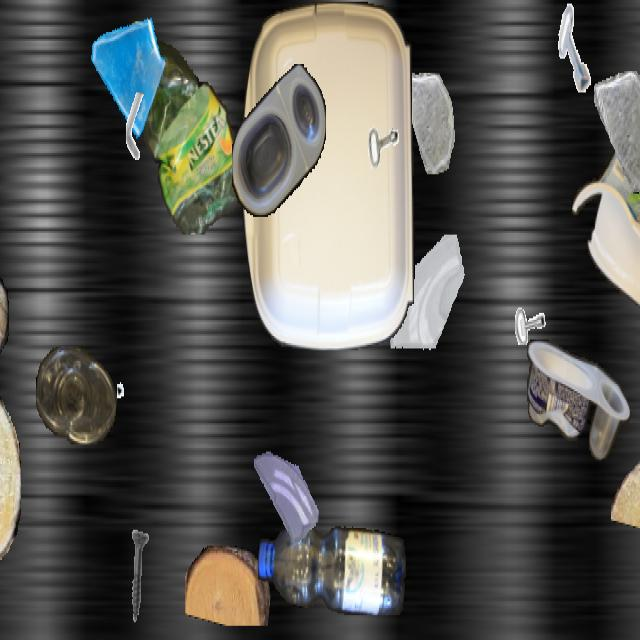glass: (388, 234, 470, 380), (87, 2, 165, 140), (254, 441, 318, 555), (594, 71, 640, 192), (400, 73, 456, 172)
metal: (349, 73, 409, 179), (110, 528, 166, 628), (550, 2, 602, 94), (505, 265, 549, 343), (116, 92, 156, 164), (117, 366, 155, 434)
plastic: (242, 2, 414, 350), (112, 21, 242, 235), (232, 64, 326, 217), (258, 519, 406, 615), (572, 124, 640, 313), (527, 340, 629, 460), (36, 347, 116, 442)
wood: (185, 546, 271, 624), (0, 393, 21, 567), (611, 442, 640, 538), (0, 265, 9, 364)
